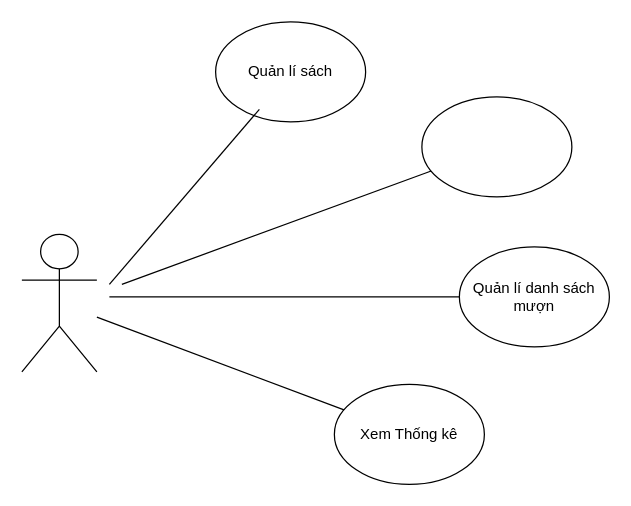
The diagram is 631 pixels wide and 506 high, and some of its shapes have lost their labels. The shapes that lost their labels are listed below. From the top down, each one's centre as x and y in pixels, then its label:
(x=496, y=146): Quản lí đầu mục
(x=59, y=302): Library
